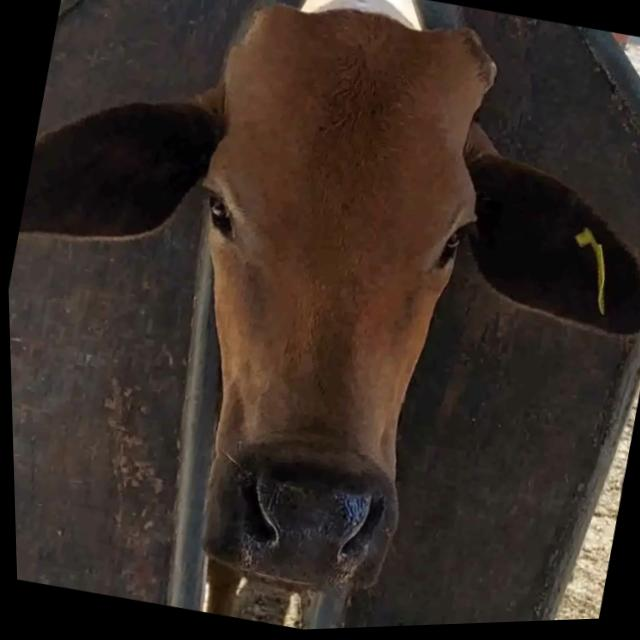cowFace: (121, 0, 521, 621)
